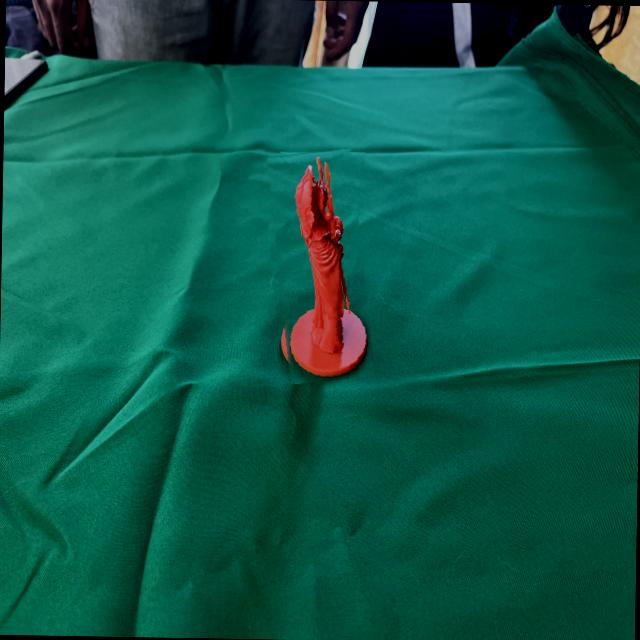amon: (269, 148, 372, 382)
